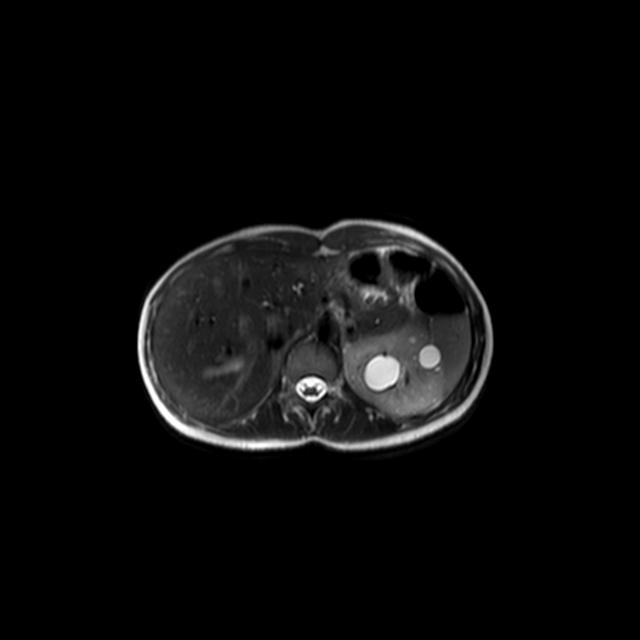sol: (342, 323, 444, 417)
